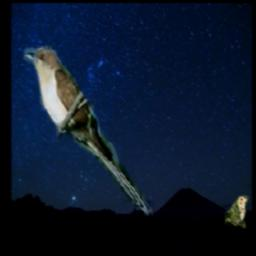Cuckoo: (22, 46, 153, 222)
Sparrow: (224, 196, 248, 229)
